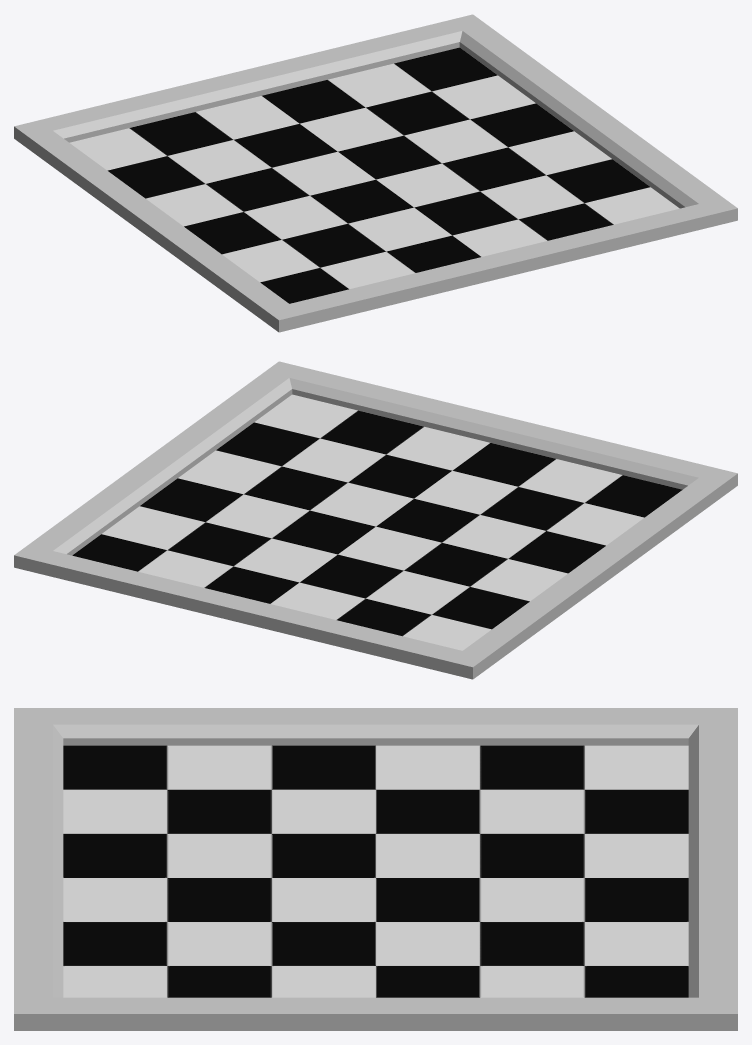
The model's file is SkaakBoard.fbx.
The picture shows the model from 3 angles, top to bottom: view 1: azimuth 30°, elevation 25°; view 2: azimuth 150°, elevation 25°; view 3: azimuth 270°, elevation 25°; orthographic projection. The views are drawn at different scales.
Visible parts, largest first — view 1: Plane, Cube; view 2: Plane, Cube; view 3: Plane, Cube.
Part boxes in pixels (x1=…): Plane: x1=69, y1=47, x2=679, y2=303; Cube: x1=14, y1=14, x2=737, y2=332; Plane: x1=72, y1=394, x2=682, y2=650; Cube: x1=14, y1=361, x2=737, y2=679; Plane: x1=63, y1=745, x2=688, y2=997; Cube: x1=14, y1=708, x2=737, y2=1030.
Size of the model in its own units: 1389 by 35.46 by 1389.
